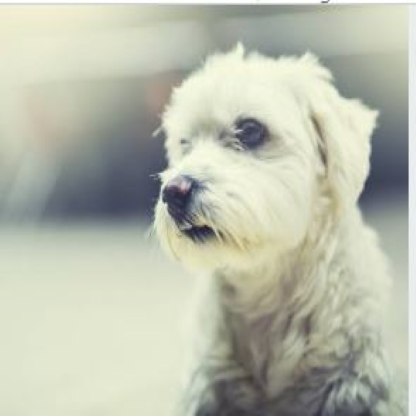maltese: (145, 44, 408, 413)
